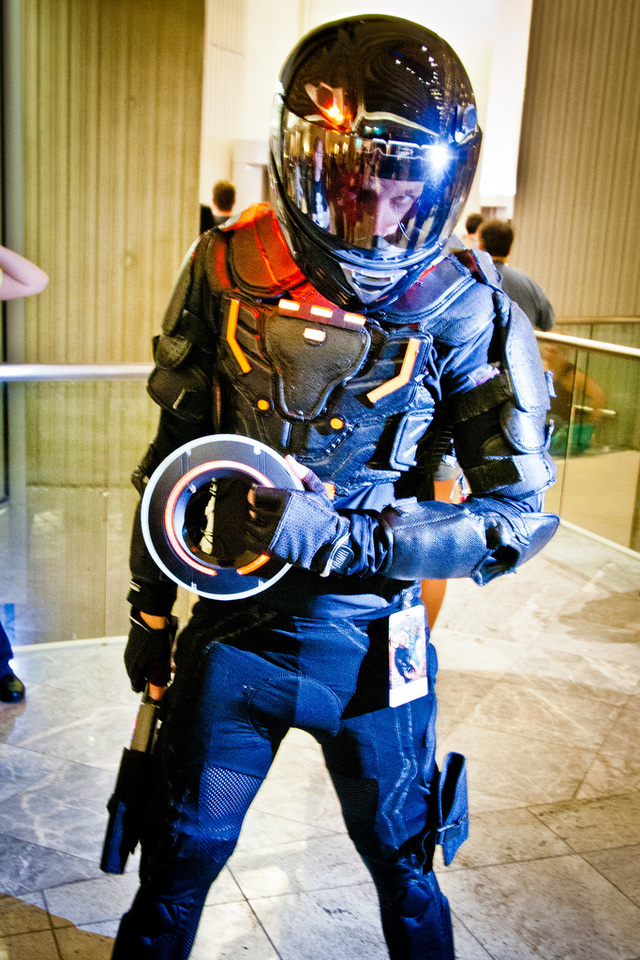helmet: (255, 22, 502, 309)
